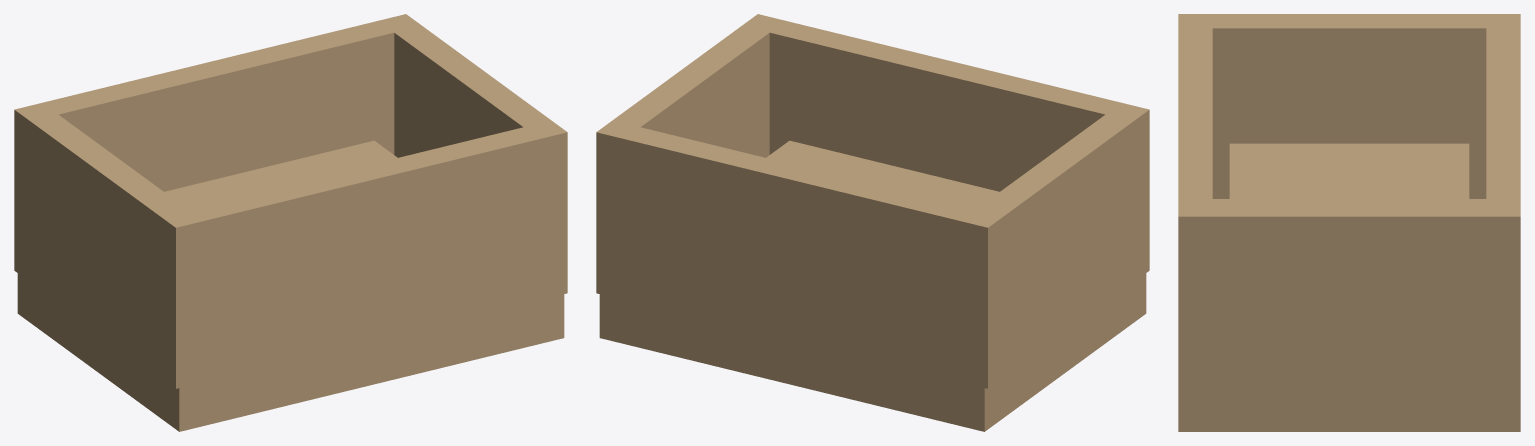
The model's file is product_fillet_crate.glb.
3 views of the same model, side by side, from view 1: azimuth 30°, elevation 25°; view 2: azimuth 150°, elevation 25°; view 3: azimuth 270°, elevation 25° (orthographic). The views are drawn at different scales.
Parts seen in each view (by area): view 1: product.fillet_crate; view 2: product.fillet_crate; view 3: product.fillet_crate.
Part boxes in pixels (x1,y1,x2,y2): product.fillet_crate: (14, 14, 567, 431); product.fillet_crate: (596, 14, 1149, 431); product.fillet_crate: (1178, 14, 1520, 431).
Bounding box in the file's own units: 0.34 × 0.17 × 0.2429.
